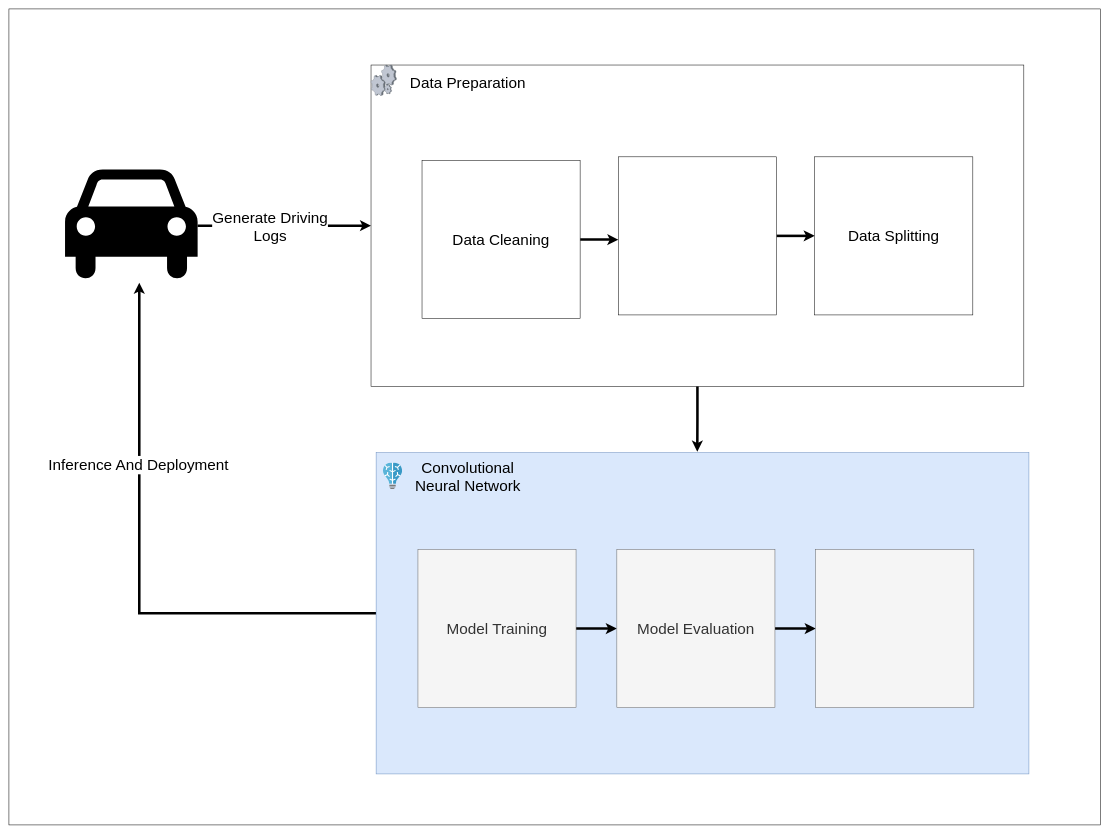
This 1109x834 diagram has some shape labels left out. The centre of each missing label's shape, as x and y in pixels:
Data Augmentation: pixel 697 235
Hyperparameter Tuning: pixel 894 628
